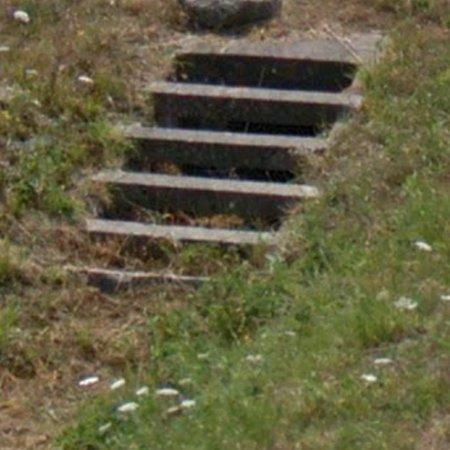stairs: (86, 47, 361, 247)
